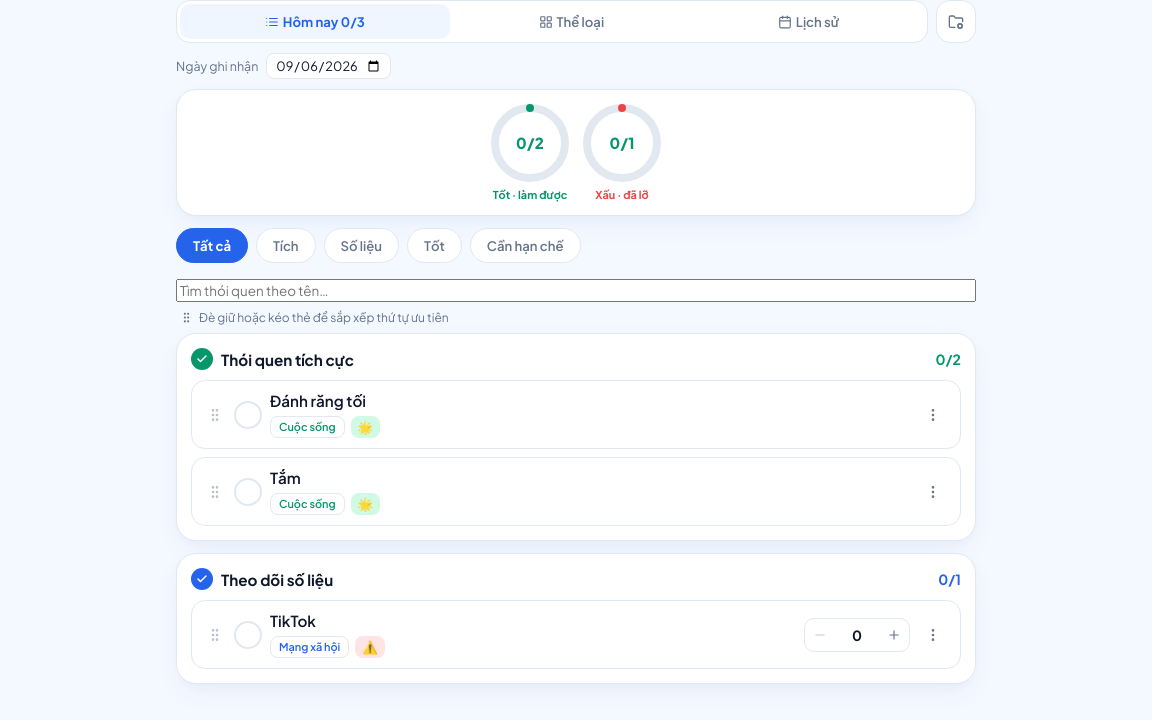
Scenario: HabitsPage › mỗi thói quen có nút đánh dấu và nút sửa riêng
Expected: the text "Tắm" is shown, [270,468,301,487]
Click the button named "Sửa Tắm": coordinates (933, 492) [918,476,948,506]
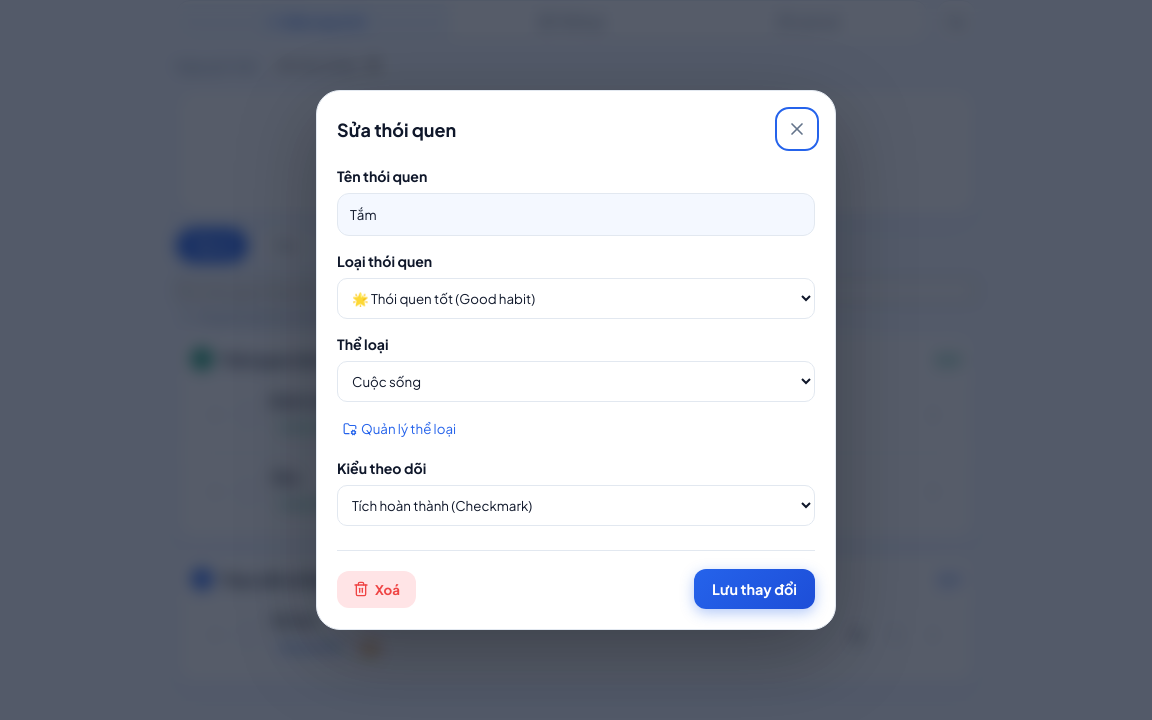
Now the heading "Sửa thói quen" is shown, box [337,118,456,140]
